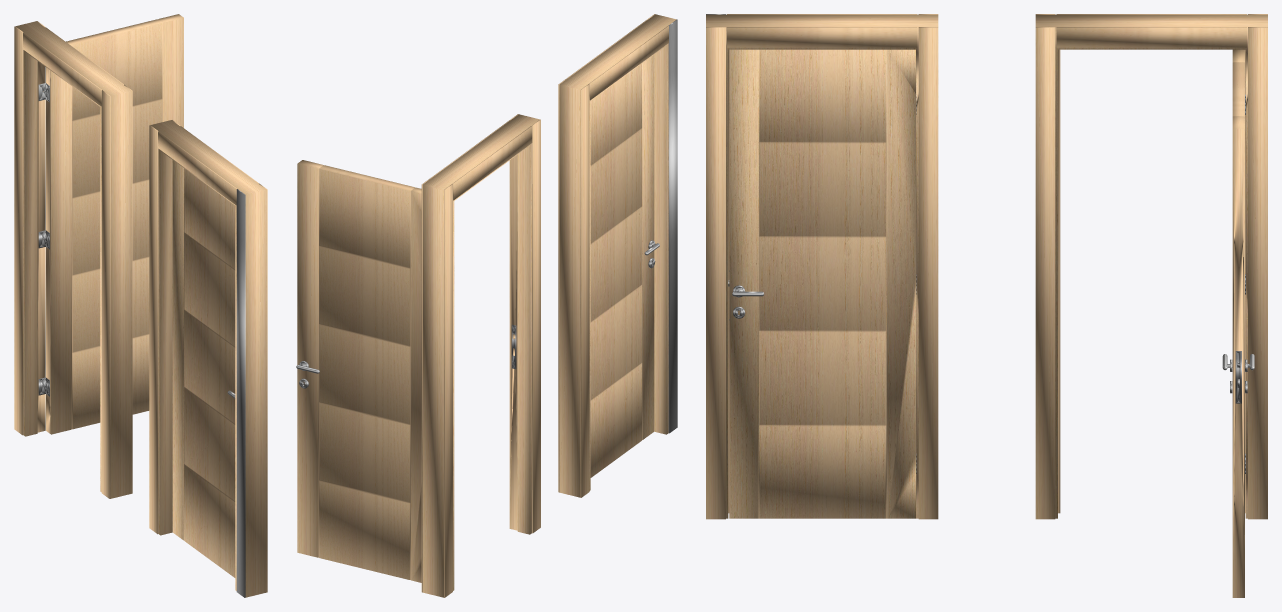
File: Oak wooden door.obj
The picture shows the model from 3 angles, left to right: view 1: azimuth 30°, elevation 25°; view 2: azimuth 150°, elevation 25°; view 3: azimuth 270°, elevation 25°; orthographic projection. The views are drawn at different scales.
Visible parts, largest first — view 1: 3dSolid; view 2: 3dSolid; view 3: 3dSolid.
Boxes of the visible parts, <box> form: 3dSolid: <box>14,14,267,597</box>; 3dSolid: <box>296,14,677,597</box>; 3dSolid: <box>706,14,1267,597</box>.
Size of the model in its own units: 89.15 by 219 by 227.
